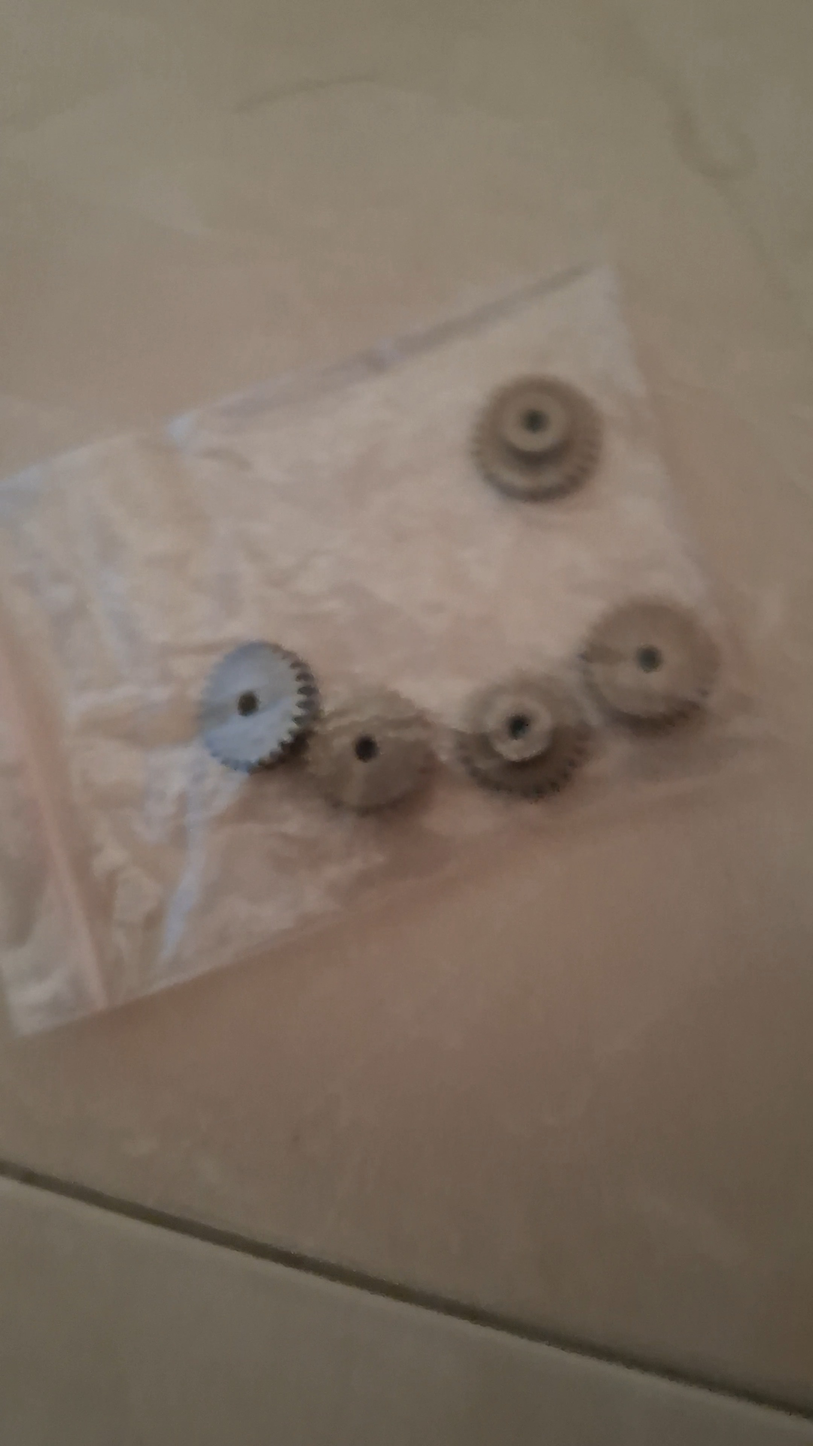spur gear: (582, 601, 719, 726), (457, 675, 591, 797), (473, 376, 601, 500), (306, 688, 433, 811), (199, 642, 318, 772)
